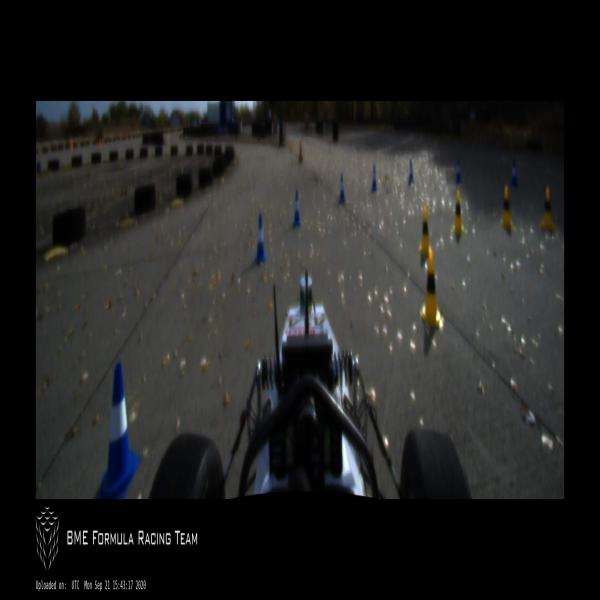blue_cone: (98, 363, 140, 499), (255, 214, 266, 262), (292, 189, 300, 226), (339, 173, 345, 204), (372, 165, 378, 191), (511, 160, 517, 186), (408, 160, 414, 182), (456, 160, 461, 182)
yellow_cone: (420, 252, 443, 328), (542, 186, 556, 231), (452, 189, 464, 234), (500, 184, 512, 228), (419, 206, 429, 254)
